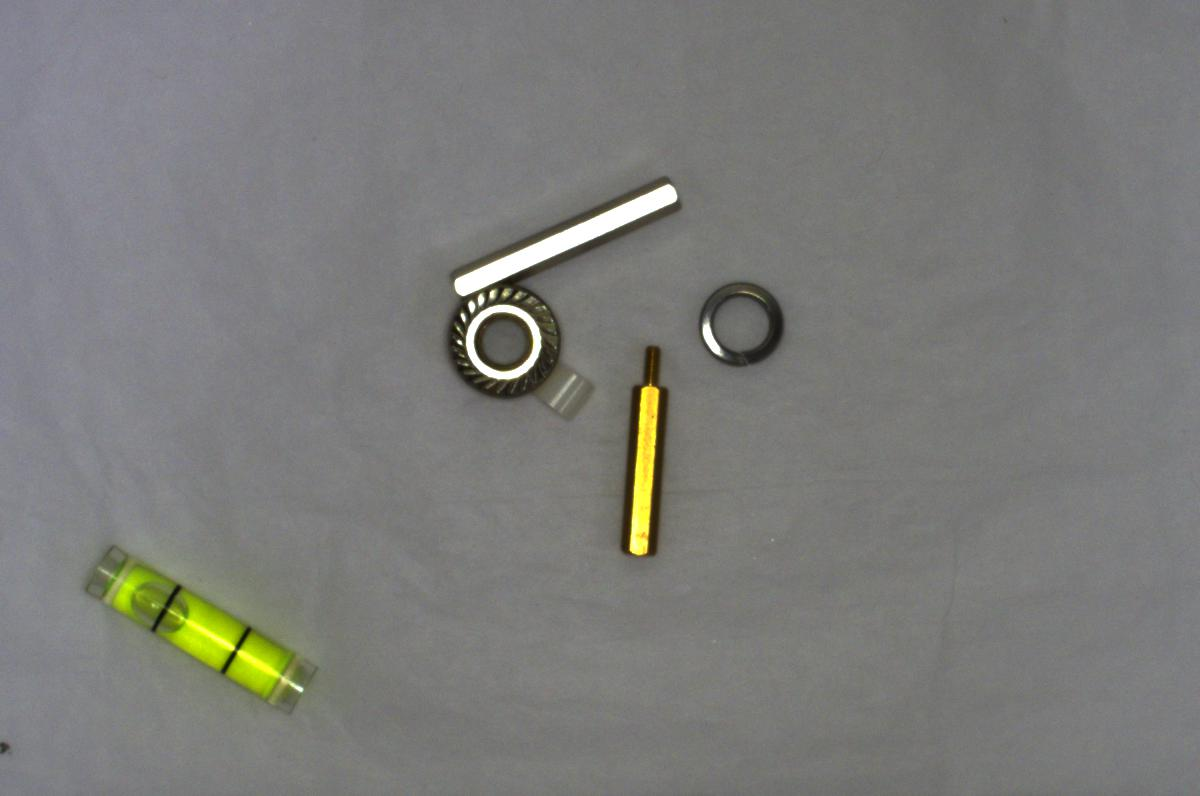Double hexagonal column: (447, 168, 685, 299)
Flange nut: (440, 280, 565, 401)
Hexagon pillar: (613, 343, 666, 558)
Horizontal bubble: (71, 540, 328, 723)
Plastic cushion pillar: (533, 363, 592, 416)
Spring washer: (690, 272, 790, 368)
